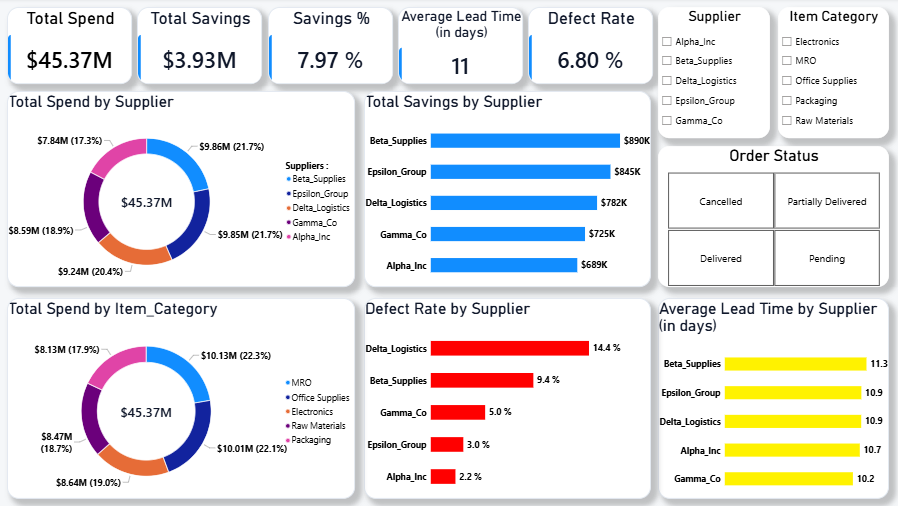

The dashboard page shown, as its layout file describes it:
{"tool":"powerbi","page":{"name":"Page ١","canvas":[1920,1080],"ordinal":0},"visuals":[{"type":"cardVisual","title":"Total Spend","fields":{"Data":["Cleaned_Data.Total Spend"]},"box":[27.6,19.1,265.7,163.7],"z":0},{"type":"cardVisual","title":"Potential Savings","fields":{"Data":["Cleaned_Data.total savings"]},"box":[305,19.1,265.7,163.7],"z":1000},{"type":"cardVisual","title":"Savings %","fields":{"Data":["Cleaned_Data.savings %"]},"box":[582,19.1,265.7,163.7],"z":2000},{"type":"cardVisual","title":"Compliance Rate","fields":{"Data":["Cleaned_Data.Compliance Rate"]},"box":[859,19.1,265.7,163.7],"z":3000},{"type":"cardVisual","title":"Defect Rate","fields":{"Data":["Cleaned_Data.Defect Rate"]},"box":[1135.3,19.1,265.7,163.7],"z":4000},{"type":"donutChart","title":"Spend by Supplier","fields":{"Category":["Cleaned_Data.Supplier"],"Y":["Cleaned_Data.Total Spend"]},"box":[27.6,197,739.8,416.7],"z":5000},{"type":"clusteredBarChart","title":"Potential Savings by Supplier","fields":{"Category":["Cleaned_Data.Supplier"],"Y":["Cleaned_Data.total savings"]},"box":[787,197.7,610.2,416.7],"z":6000},{"type":"barChart","title":"Compliance Rate by Supplier","fields":{"Category":["Cleaned_Data.Supplier"],"Y":["Cleaned_Data.Compliance Rate"]},"box":[1411.7,637.8,491.1,427.3],"z":7000},{"type":"clusteredBarChart","fields":{"Category":["Cleaned_Data.Supplier"],"Y":["Cleaned_Data.Defect Rate"]},"box":[786.6,637.8,610.2,427.3],"z":8000},{"type":"donutChart","title":"Spend by Item Category","fields":{"Category":["Cleaned_Data.Item_Category"],"Y":["Cleaned_Data.Total Spend"]},"box":[27.6,637.8,739.8,427.3],"z":9000},{"type":"slicer","title":"Supplier","fields":{"Values":["Cleaned_Data.Supplier"]},"box":[1411.7,19.1,238.1,278.5],"z":10000},{"type":"slicer","title":"Item Category","fields":{"Values":["Cleaned_Data.Item_Category"]},"box":[1666.8,19.1,236,278.5],"z":11000},{"type":"slicer","title":"Order Status","fields":{"Values":["Cleaned_Data.Order_Status"]},"box":[1411.7,314.6,491.1,299.8],"z":12000}]}

Visuals, with their boxes in screenshot pixels (x1, y1, x2, y2), scaled from the page's 1920x1080 canvas onto the 898x506 screenshot:
"Total Spend" cardVisual: [13, 9, 137, 86]
"Potential Savings" cardVisual: [143, 9, 267, 86]
"Savings %" cardVisual: [272, 9, 396, 86]
"Compliance Rate" cardVisual: [402, 9, 526, 86]
"Defect Rate" cardVisual: [531, 9, 655, 86]
"Spend by Supplier" donutChart: [13, 92, 359, 288]
"Potential Savings by Supplier" clusteredBarChart: [368, 93, 653, 288]
"Compliance Rate by Supplier" barChart: [660, 299, 890, 499]
clusteredBarChart - Cleaned_Data.Supplier x Cleaned_Data.Defect Rate: [368, 299, 653, 499]
"Spend by Item Category" donutChart: [13, 299, 359, 499]
"Supplier" slicer: [660, 9, 772, 139]
"Item Category" slicer: [780, 9, 890, 139]
"Order Status" slicer: [660, 147, 890, 288]
